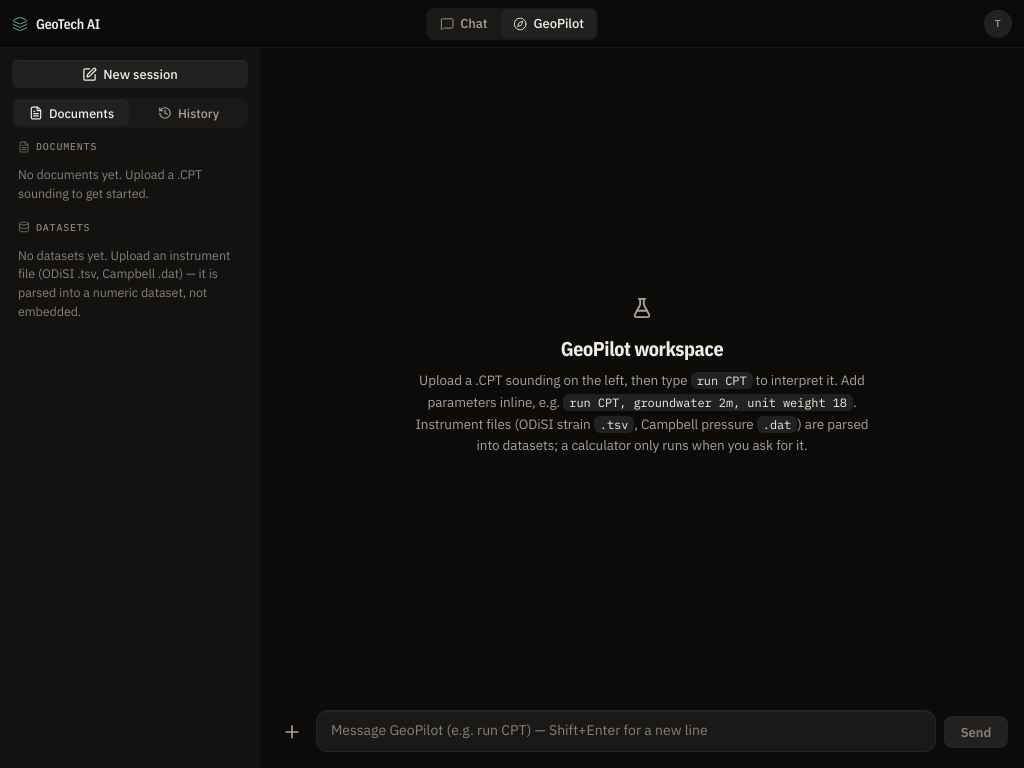
Test: dataset result card › renders notice + deterministic block + chart + export, AI draft collapsed until asked
This screenshot has width=1024, height=768.
Check: the heading "GeoPilot workspace" is shown, box [561,336,723,362]
Check: the text "Datasets" is shown, box [18,220,90,234]
Type "run traffic load monitoring" into the text box with placeholder "Message GeoPilot" at (626, 731), box [316,710,936,752]
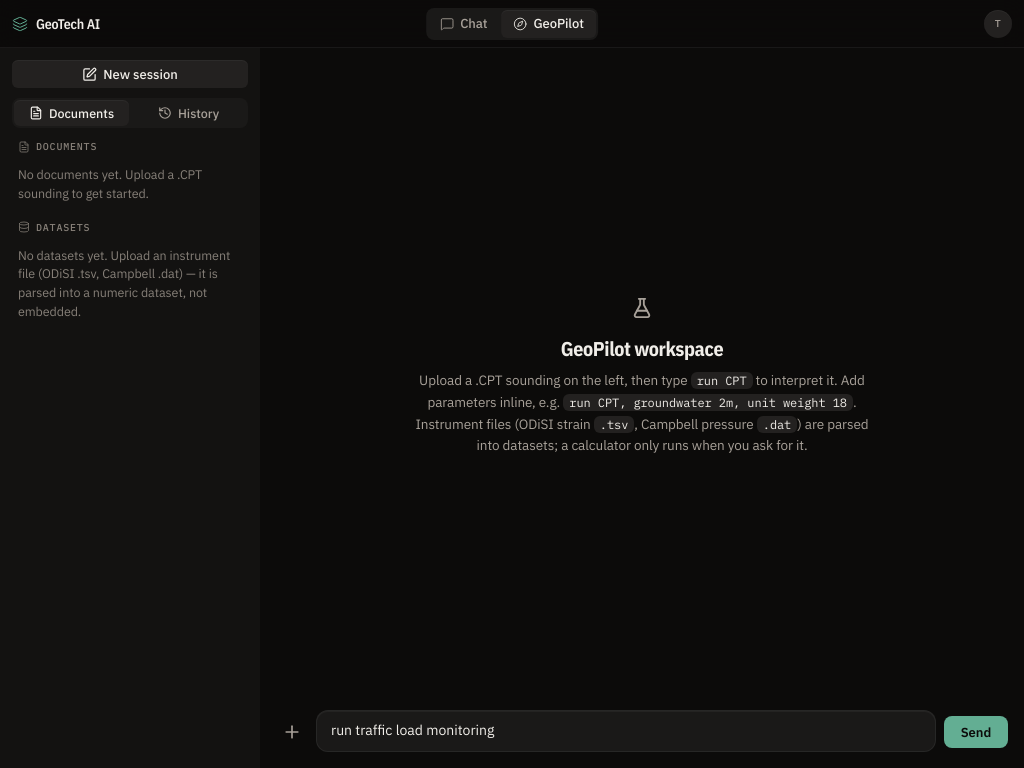
Submit the form with placeholder "Message GeoPilot", box [260,702,1023,767]
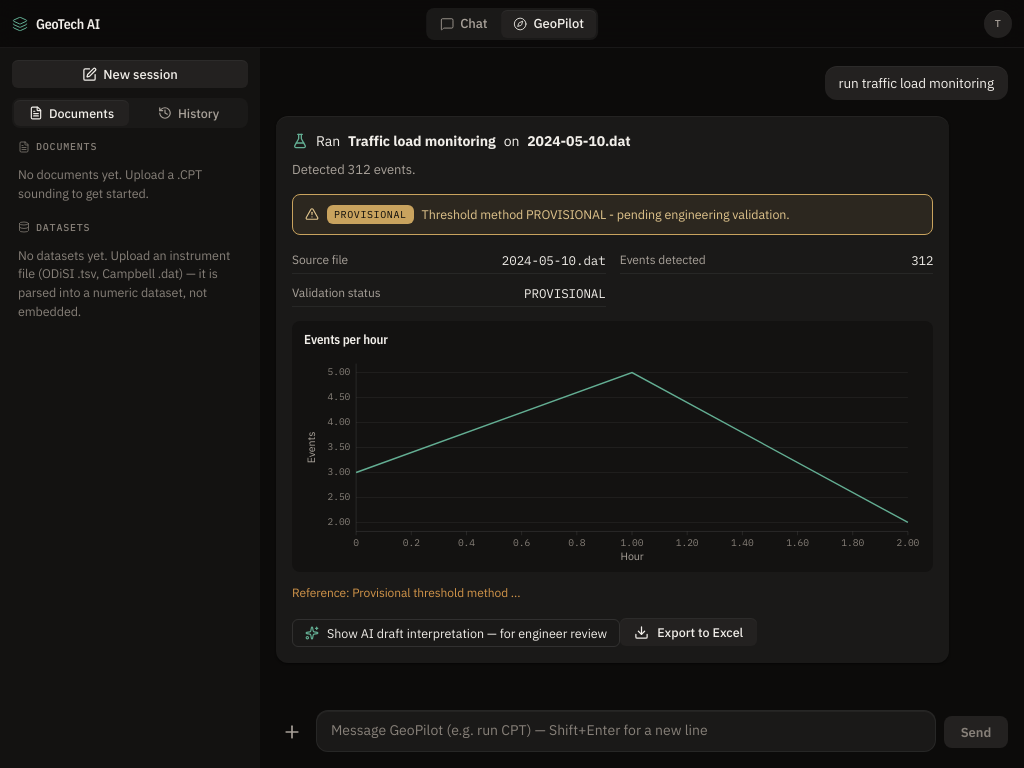
Check: the text "Detected 312 events." is shown, box [292,161,415,178]
Check: the text "PROVISIONAL - pending engineering validation" is shown, box [422,206,790,222]
Check: the text "Provisional" is shown, box [327,205,414,224]
Click the button "Show AI draft interpretation — for engineer review" at (456, 633), box [292,619,620,647]
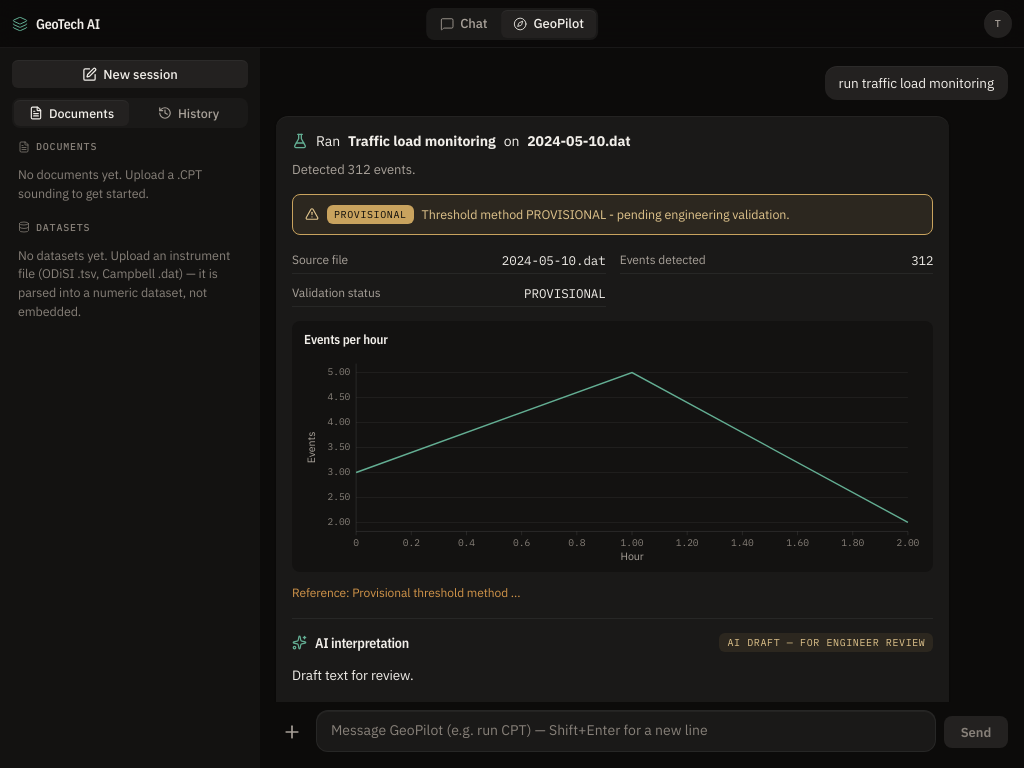
Check: the text "Draft text for review." is shown, box [292,666,414,684]
Check: the text "AI draft — for engineer review" is shown, box [719,633,933,652]
